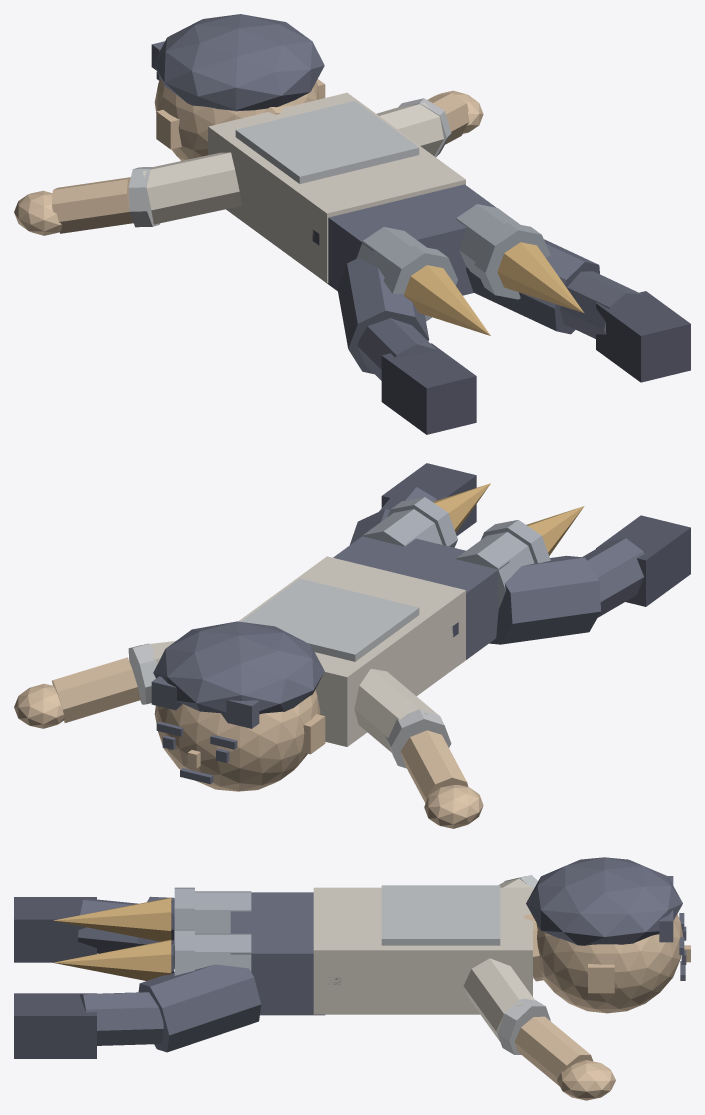
File: character_flying_dual_thrust.glb
3 renders of one model, top to bottom at view 1: azimuth 30°, elevation 25°; view 2: azimuth 150°, elevation 25°; view 3: azimuth 270°, elevation 25°, orthographic. The views are drawn at different scales.
Visible parts, largest first — view 1: 000_shirt_torso, 006_hair_cap, 001_rolled_shirt_back, 002_waist_pants, 023_shoe_-1, 035_shoe_1, 017_upper_sleeve_-1, 021_upper_leg_-1, 019_forearm_-1, 005_head, 033_upper_leg_1, 039_exhaust_orange_1 (+12 smaller); view 2: 000_shirt_torso, 006_hair_cap, 005_head, 001_rolled_shirt_back, 021_upper_leg_-1, 002_waist_pants, 023_shoe_-1, 031_forearm_1, 017_upper_sleeve_-1, 022_lower_leg_-1, 019_forearm_-1, 024_nozzle_base_-1 (+13 smaller); view 3: 000_shirt_torso, 006_hair_cap, 002_waist_pants, 005_head, 001_rolled_shirt_back, 033_upper_leg_1, 035_shoe_1, 023_shoe_-1, 034_lower_leg_1, 029_upper_sleeve_1, 027_exhaust_orange_-1, 031_forearm_1 (+11 smaller).
Part boxes in pixels (left/top/right/bottom): 000_shirt_torso: left=208, top=92, right=465, bottom=283; 006_hair_cap: left=153, top=14, right=324, bottom=111; 001_rolled_shirt_back: left=235, top=101, right=419, bottom=183; 002_waist_pants: left=327, top=184, right=495, bottom=295; 023_shoe_-1: left=381, top=343, right=476, bottom=434; 035_shoe_1: left=596, top=291, right=690, bottom=382; 017_upper_sleeve_-1: left=142, top=152, right=242, bottom=224; 021_upper_leg_-1: left=337, top=258, right=429, bottom=374; 019_forearm_-1: left=52, top=177, right=133, bottom=233; 005_head: left=154, top=78, right=319, bottom=160; 033_upper_leg_1: left=466, top=239, right=599, bottom=334; 039_exhaust_orange_1: left=497, top=242, right=584, bottom=313; 000_shirt_torso: left=238, top=556, right=465, bottom=746; 006_hair_cap: left=153, top=621, right=324, bottom=714; 005_head: left=154, top=689, right=320, bottom=791; 001_rolled_shirt_back: left=241, top=578, right=419, bottom=661; 021_upper_leg_-1: left=489, top=555, right=600, bottom=644; 002_waist_pants: left=333, top=536, right=509, bottom=659; 023_shoe_-1: left=596, top=515, right=690, bottom=606; 031_forearm_1: left=52, top=657, right=140, bottom=722; 017_upper_sleeve_-1: left=354, top=669, right=437, bottom=752; 022_lower_leg_-1: left=582, top=538, right=644, bottom=617; 019_forearm_-1: left=400, top=730, right=468, bottom=803; 024_nozzle_base_-1: left=456, top=532, right=534, bottom=609; 000_shirt_torso: left=313, top=887, right=532, bottom=1014; 006_hair_cap: left=526, top=857, right=682, bottom=945; 002_waist_pants: left=230, top=892, right=324, bottom=1015; 005_head: left=536, top=914, right=682, bottom=1013; 001_rolled_shirt_back: left=381, top=885, right=500, bottom=945; 033_upper_leg_1: left=138, top=964, right=261, bottom=1052; 035_shoe_1: left=14, top=993, right=96, bottom=1058; 023_shoe_-1: left=14, top=897, right=96, bottom=962; 034_lower_leg_1: left=79, top=992, right=163, bottom=1045; 029_upper_sleeve_1: left=463, top=958, right=534, bottom=1041; 027_exhaust_orange_-1: left=53, top=897, right=171, bottom=941; 031_forearm_1: left=514, top=1016, right=592, bottom=1086.
Size of the model in its own units: 1.65 by 0.5171 by 2.28.
